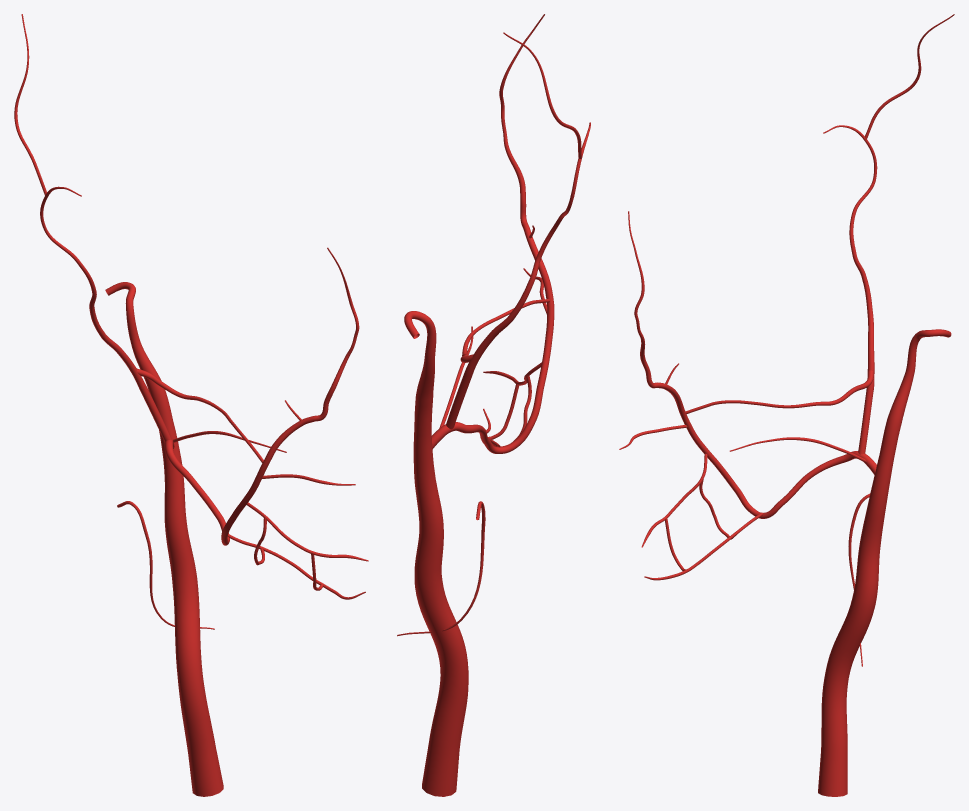
The model's file is circulatorio-internal-jugular-vein-r.glb.
3 renders of one model, left to right at view 1: azimuth 30°, elevation 25°; view 2: azimuth 150°, elevation 25°; view 3: azimuth 270°, elevation 25°, orthographic. The views are drawn at different scales.
Visible parts, largest first — view 1: Internal jugular vein.r, Superficial temporal veins.r, Facial vein.r, Angular vein.r, Inferior labial veins.r, Maxillary veins.r; view 2: Internal jugular vein.r, Facial vein.r, Superficial temporal veins.r, Angular vein.r, Inferior labial veins.r, Superior thyroid vein.r, Maxillary veins.r, Anterior division of retromandibular vein.r, Retromandibular vein.r; view 3: Internal jugular vein.r, Facial vein.r, Superficial temporal veins.r, Angular vein.r, Maxillary veins.r, Inferior labial veins.r.
Part boxes in pixels (bbox=[...]): Internal jugular vein.r: bbox=[105, 282, 223, 796]; Superficial temporal veins.r: bbox=[14, 14, 122, 353]; Facial vein.r: bbox=[165, 440, 280, 545]; Angular vein.r: bbox=[276, 247, 359, 443]; Inferior labial veins.r: bbox=[246, 502, 368, 590]; Maxillary veins.r: bbox=[137, 368, 263, 462]; Internal jugular vein.r: bbox=[404, 311, 468, 796]; Facial vein.r: bbox=[451, 268, 554, 453]; Superficial temporal veins.r: bbox=[489, 32, 590, 337]; Angular vein.r: bbox=[499, 14, 545, 270]; Inferior labial veins.r: bbox=[483, 362, 541, 446]; Superior thyroid vein.r: bbox=[397, 501, 485, 636]; Maxillary veins.r: bbox=[460, 299, 550, 362]; Anterior division of retromandibular vein.r: bbox=[446, 373, 472, 429]; Retromandibular vein.r: bbox=[464, 333, 494, 376]; Internal jugular vein.r: bbox=[818, 329, 951, 796]; Facial vein.r: bbox=[674, 396, 859, 518]; Superficial temporal veins.r: bbox=[823, 14, 954, 341]; Angular vein.r: bbox=[628, 211, 679, 399]; Maxillary veins.r: bbox=[685, 370, 873, 414]; Inferior labial veins.r: bbox=[641, 453, 736, 570].
Bounding box in the file's own units: 0.0759 × 0.2601 × 0.1093.
